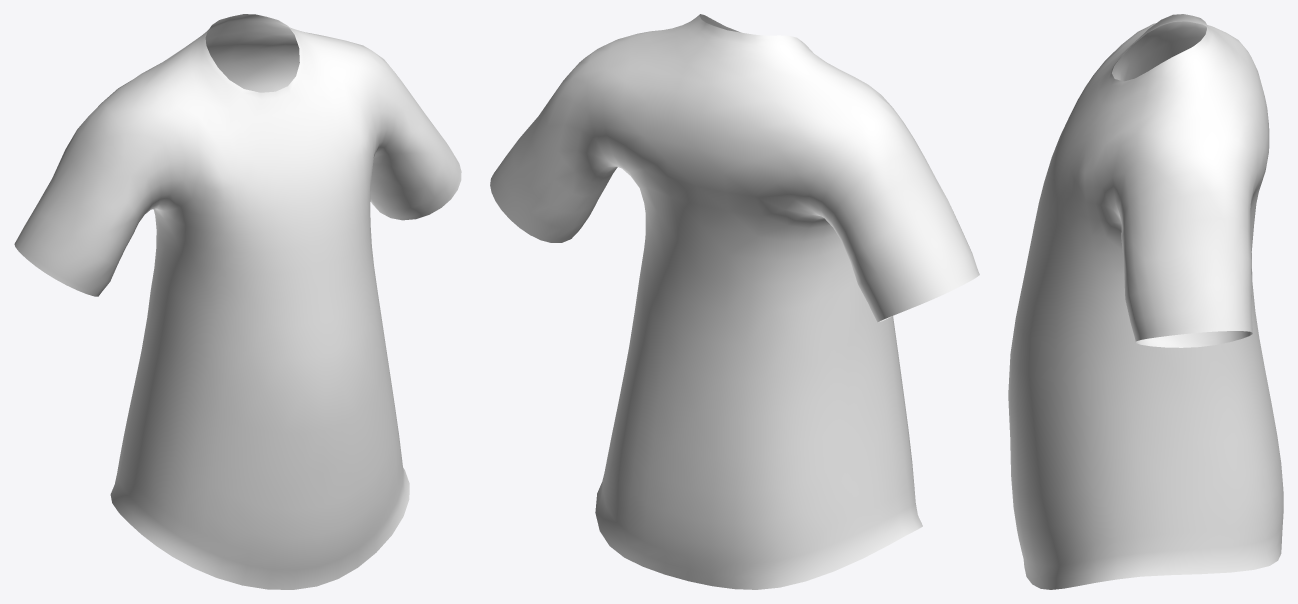
The model's file is tshirt_black.glb.
The picture shows the model from 3 angles, left to right: view 1: azimuth 30°, elevation 25°; view 2: azimuth 150°, elevation 25°; view 3: azimuth 270°, elevation 25°; orthographic projection. The views are drawn at different scales.
Parts seen in each view (by area): view 1: tshirt; view 2: tshirt; view 3: tshirt.
Part boxes in pixels (<box>): tshirt: <box>14,14,461,589</box>; tshirt: <box>490,14,979,589</box>; tshirt: <box>1008,14,1283,589</box>.
Size of the model in its own units: 0.0794 by 0.09 by 0.0418.
Materials: 1 (1 with a texture image).
